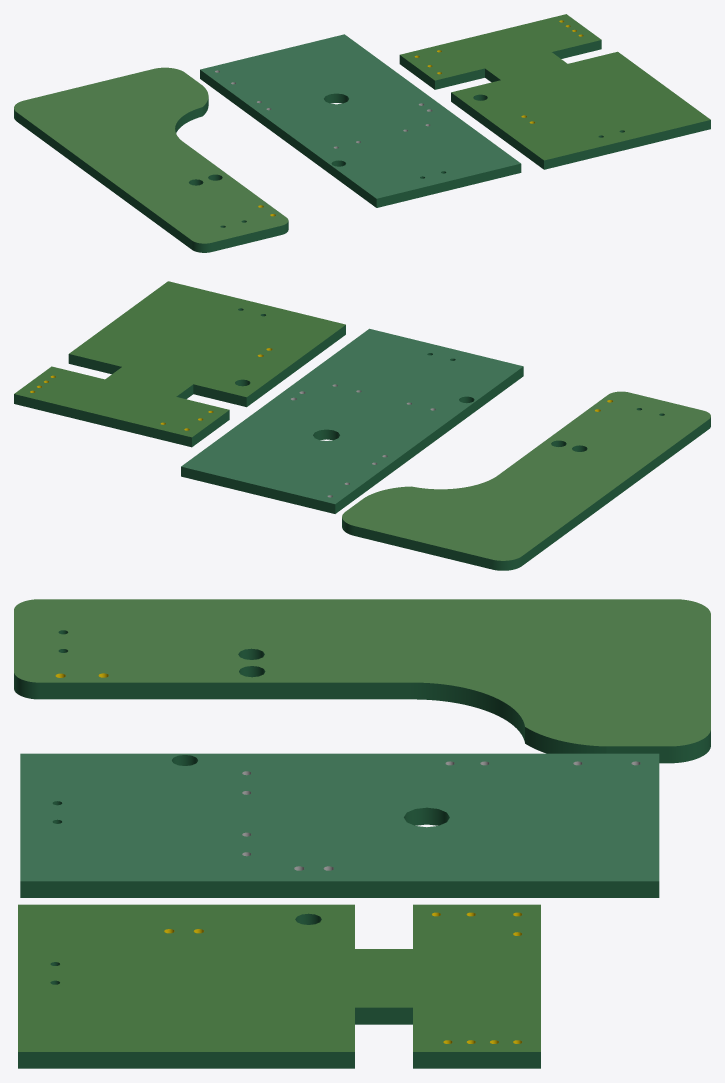
Rendered from Handimate Electronics.obj.
3 views of the same model, one above another, from view 1: azimuth 30°, elevation 25°; view 2: azimuth 150°, elevation 25°; view 3: azimuth 270°, elevation 25° (orthographic). The views are drawn at different scales.
Visible parts, largest first — view 1: Mesh3 pcbgroup2 Motor_Module_Connector_Mount1 Glove_Module1 Mode, Mesh4 pcbgroup5 pcbgroup4 pcbgroup3 Motor_Module_Side_Mount1 Glo, Mesh1 pcbgroup1 pcbgroup Glove_Module1 Model; view 2: Mesh3 pcbgroup2 Motor_Module_Connector_Mount1 Glove_Module1 Mode, Mesh4 pcbgroup5 pcbgroup4 pcbgroup3 Motor_Module_Side_Mount1 Glo, Mesh1 pcbgroup1 pcbgroup Glove_Module1 Model; view 3: Mesh3 pcbgroup2 Motor_Module_Connector_Mount1 Glove_Module1 Mode, Mesh1 pcbgroup1 pcbgroup Glove_Module1 Model, Mesh4 pcbgroup5 pcbgroup4 pcbgroup3 Motor_Module_Side_Mount1 Glo.
Part boxes in pixels (x1,y1,x2,y2): Mesh3 pcbgroup2 Motor_Module_Connector_Mount1 Glove_Module1 Mode: [200, 34, 521, 207]; Mesh4 pcbgroup5 pcbgroup4 pcbgroup3 Motor_Module_Side_Mount1 Glo: [399, 14, 710, 169]; Mesh1 pcbgroup1 pcbgroup Glove_Module1 Model: [14, 67, 288, 252]; Mesh3 pcbgroup2 Motor_Module_Connector_Mount1 Glove_Module1 Mode: [181, 328, 523, 513]; Mesh4 pcbgroup5 pcbgroup4 pcbgroup3 Motor_Module_Side_Mount1 Glo: [14, 281, 345, 447]; Mesh1 pcbgroup1 pcbgroup Glove_Module1 Model: [342, 391, 710, 570]; Mesh3 pcbgroup2 Motor_Module_Connector_Mount1 Glove_Module1 Mode: [20, 753, 659, 897]; Mesh1 pcbgroup1 pcbgroup Glove_Module1 Model: [14, 599, 710, 763]; Mesh4 pcbgroup5 pcbgroup4 pcbgroup3 Motor_Module_Side_Mount1 Glo: [18, 904, 540, 1068].
Size of the model in its own units: 92.23 by 1.95 by 60.
